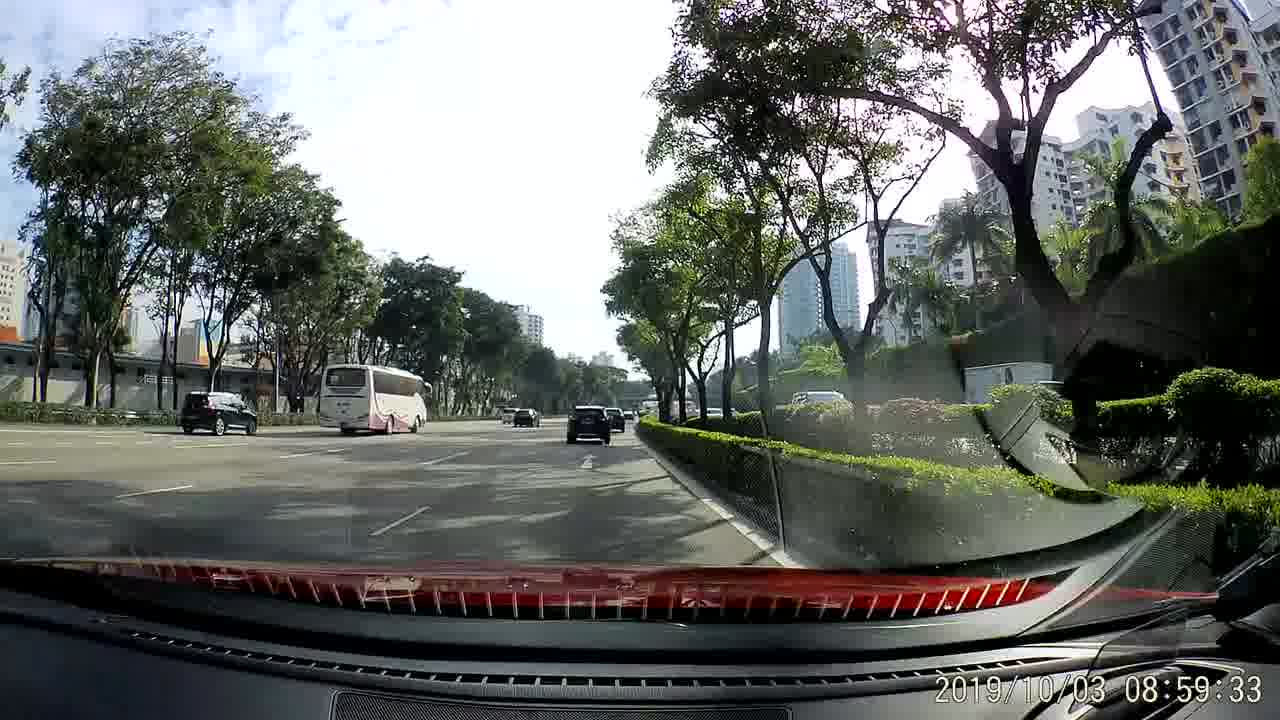bus: (315, 358, 434, 438)
car: (181, 385, 260, 438), (567, 401, 612, 445), (599, 402, 624, 432), (515, 406, 542, 428), (499, 405, 520, 424), (622, 410, 634, 420)
